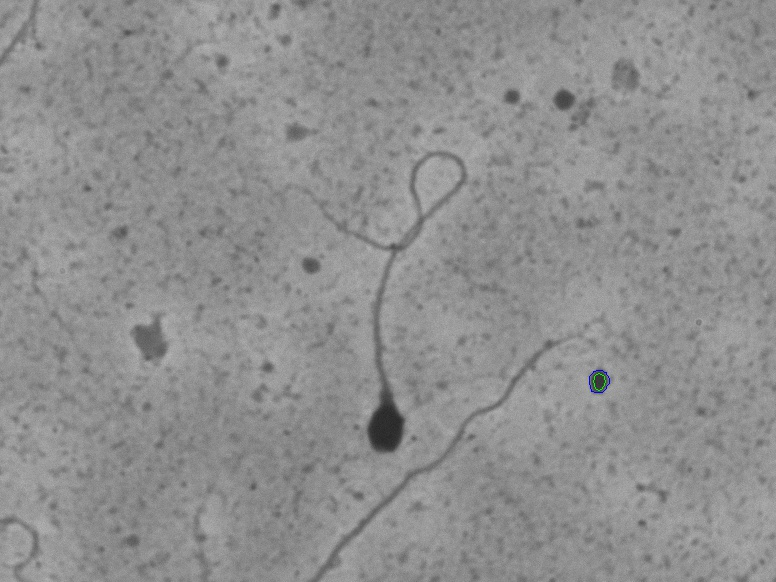Normal: (261, 109, 476, 462)
